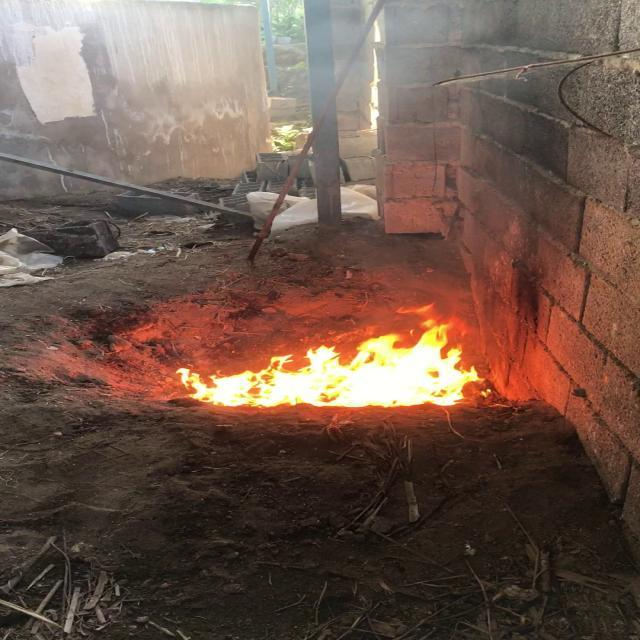Fire: (191, 326, 490, 416)
